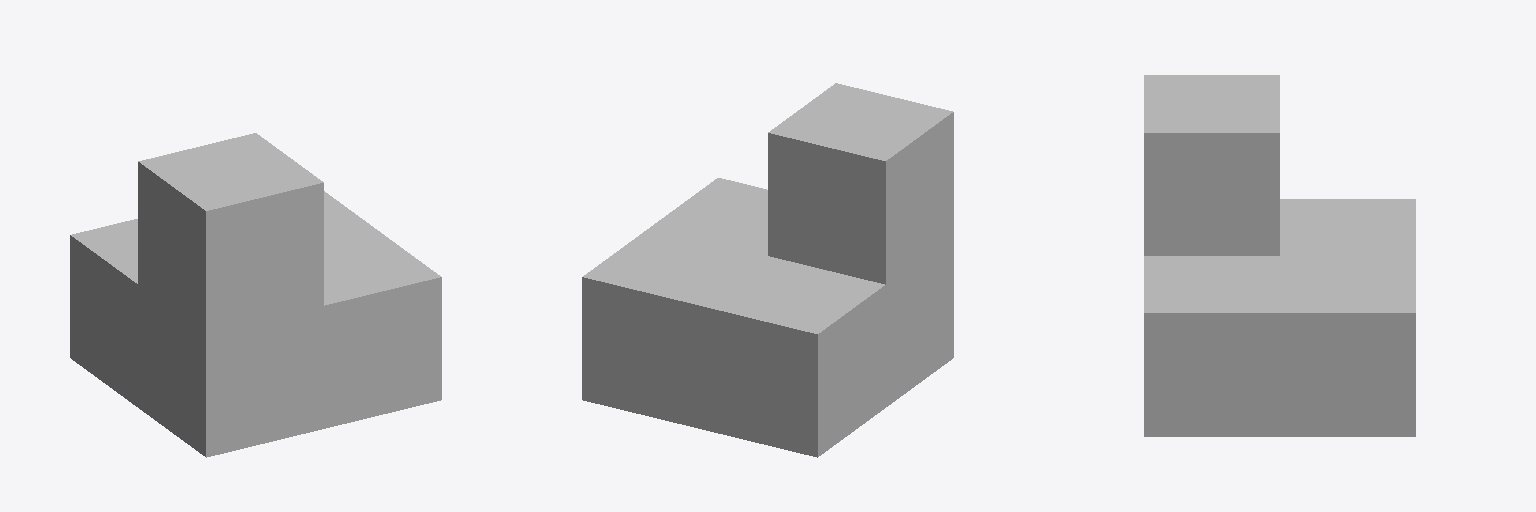
Rendered from bush-1.obj.
The picture shows the model from 3 angles: view 1: azimuth 30°, elevation 25°; view 2: azimuth 150°, elevation 25°; view 3: azimuth 270°, elevation 25°; orthographic projection.
Visible parts, largest first — view 1: bush-1; view 2: bush-1; view 3: bush-1.
Boxes of the visible parts, x1,y1,x2,y2 form: bush-1: [70, 133, 441, 457]; bush-1: [582, 83, 953, 457]; bush-1: [1144, 75, 1415, 436].
Size of the model in its own units: 2 by 2 by 2.